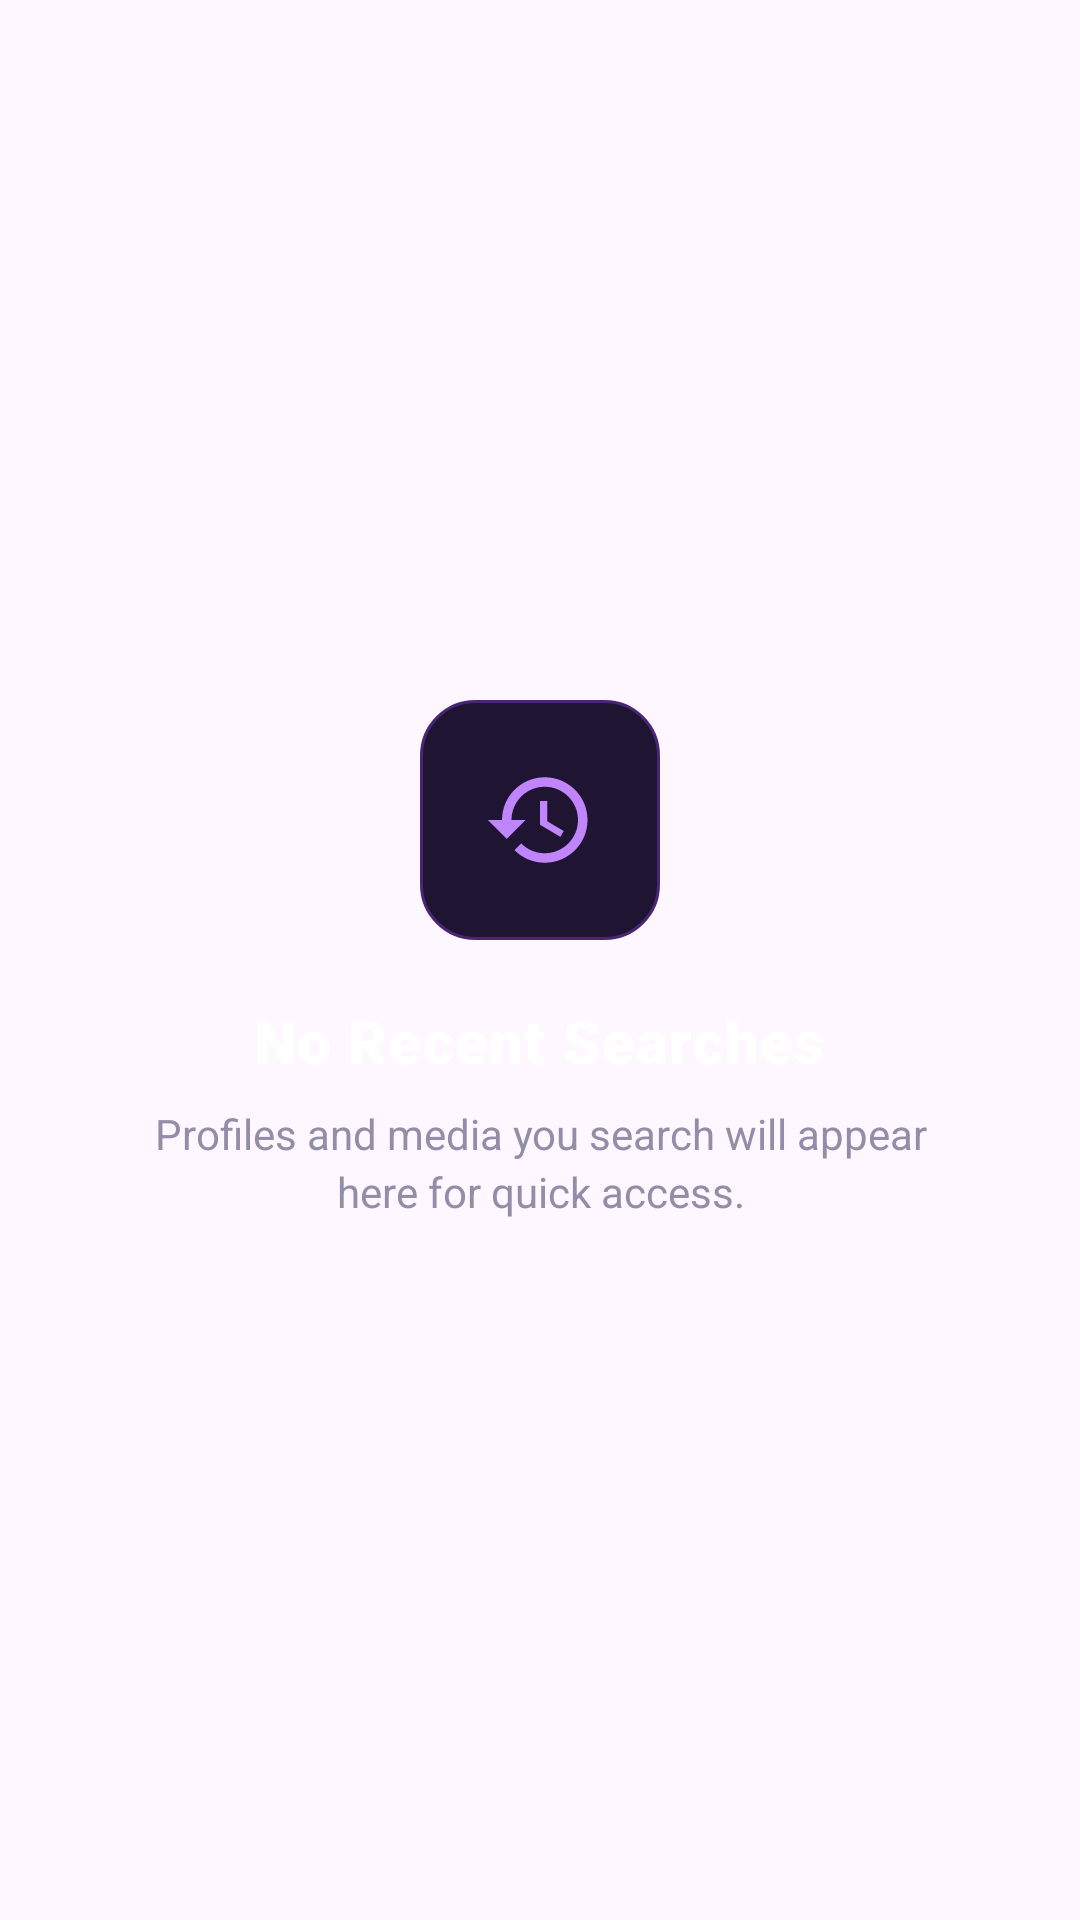

Where to tap for icons on this 1080px x 1920px app screen, as point (x, y):
History Icon: point (538, 820)
